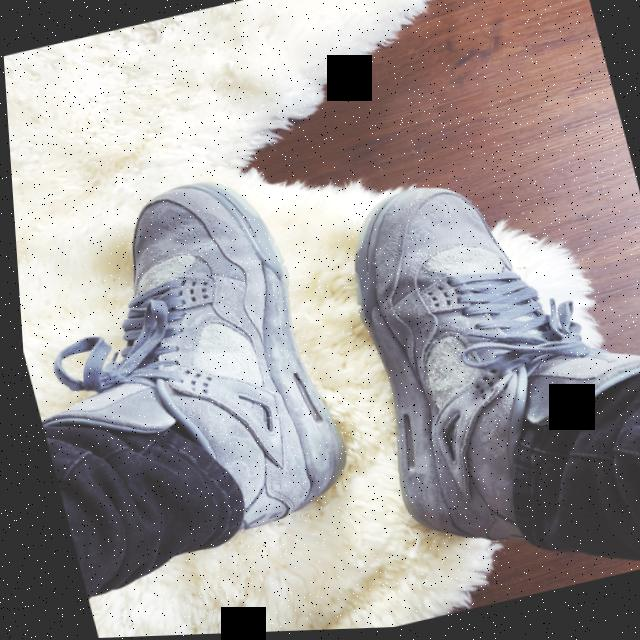shoes: (8, 147, 391, 579), (293, 127, 640, 589)
